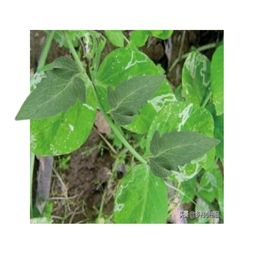liriomyza: (167, 151, 208, 183), (184, 49, 213, 86), (147, 91, 177, 114), (124, 47, 148, 71), (177, 102, 194, 133), (113, 183, 126, 213), (30, 70, 45, 89), (80, 102, 95, 112), (67, 121, 75, 132)
